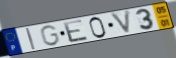0: (89, 16, 108, 39)
3: (135, 7, 156, 31)
E: (62, 18, 90, 44)
G: (39, 24, 61, 47)
I: (25, 27, 38, 51)
V: (109, 8, 133, 36)
